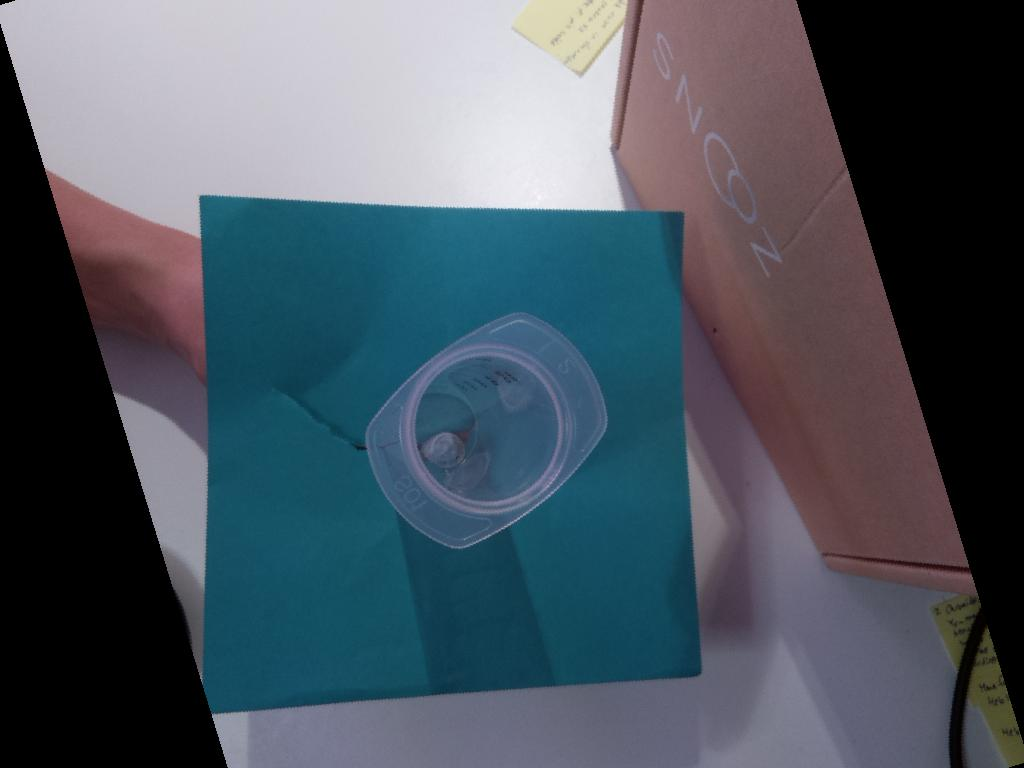clean: (365, 311, 607, 548)
